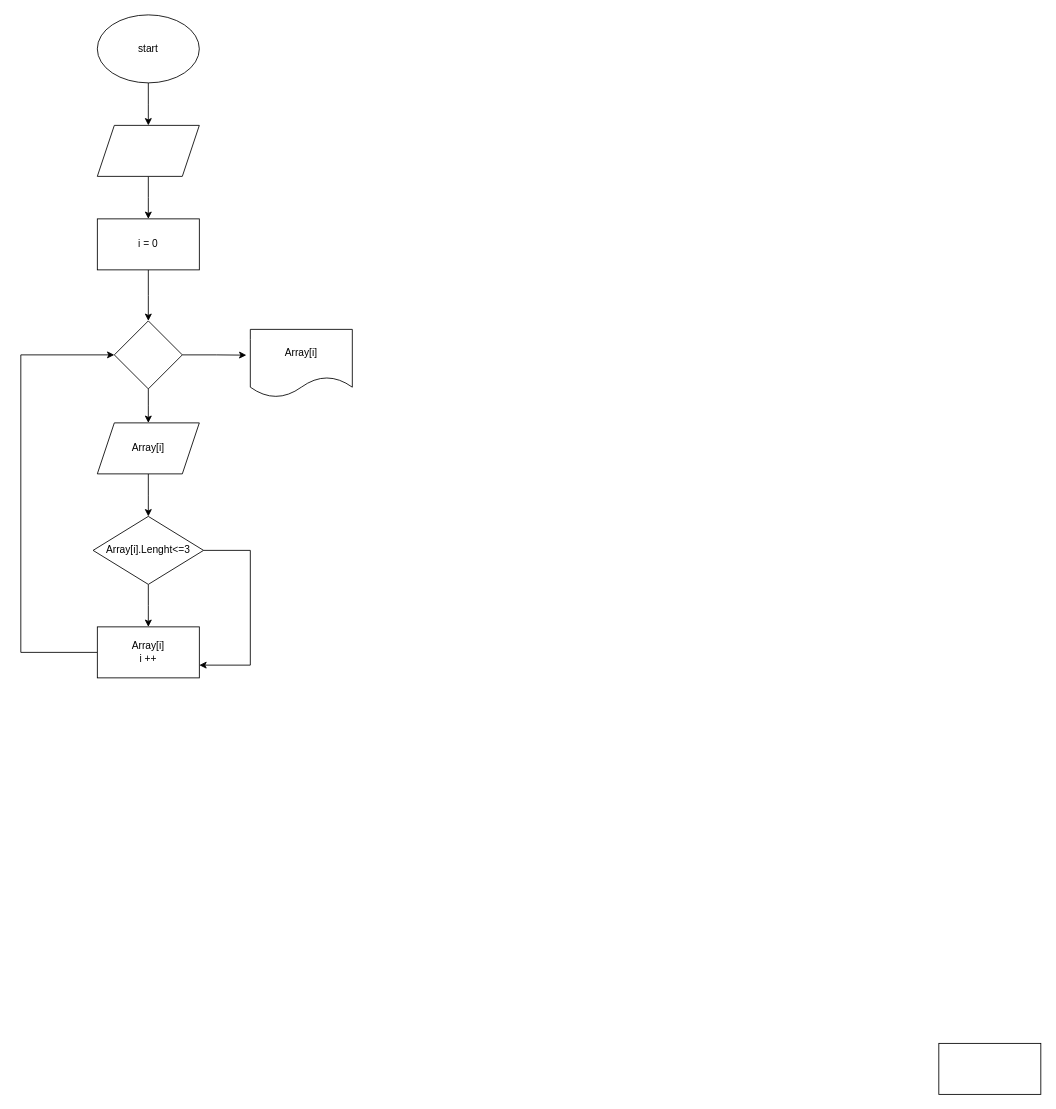
Some shapes in this 1056 by 1109 pixel diagram are drawn without their labels. The box of each missing label's shape, as (x1, y1, x2, y2) in pixels:
Array[N] Size: (96, 125, 199, 176)
i < size: (113, 320, 182, 389)
numbers=[2,5,13,7,6,4: (938, 1043, 1041, 1094)
